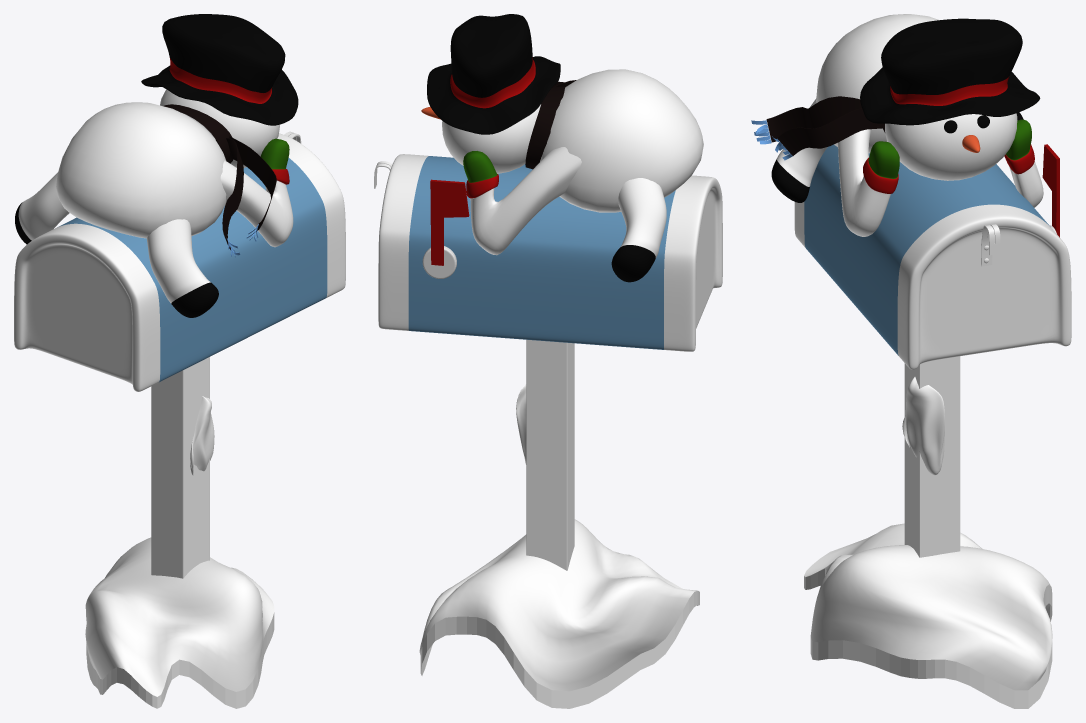
The model's file is snegovik.FBX.
3 views of the same model, side by side, from view 1: azimuth 30°, elevation 25°; view 2: azimuth 150°, elevation 25°; view 3: azimuth 270°, elevation 25° (orthographic). The views are drawn at different scales.
Parts seen in each view (by area): view 1: Cylinder001, Sphere006, Box002, Cylinder003, Box001, Box004, Object001, Sphere001, Box005, Sphere007, Line004, Line003 (+1 smaller); view 2: Cylinder001, Sphere006, Box002, Cylinder003, Box001, Object002, Box005, Sphere001, Line002, Circle001, Cylinder002, Sphere007; view 3: Cylinder001, Sphere006, Cylinder003, Box001, Sphere001, Object001, Box002, Sphere007, Line004, Line003, Object002, Box004 (+2 smaller).
Part boxes in pixels (x1,y1,x2,y2): Cylinder001: [14, 133, 345, 391]; Sphere006: [85, 537, 274, 708]; Box002: [56, 102, 226, 238]; Cylinder003: [141, 14, 298, 125]; Box001: [151, 357, 209, 578]; Box004: [146, 219, 218, 317]; Object001: [220, 138, 293, 247]; Sphere001: [160, 89, 279, 167]; Box005: [15, 172, 69, 244]; Sphere007: [190, 396, 214, 475]; Line004: [229, 136, 276, 231]; Line003: [215, 138, 243, 249]; Cylinder001: [378, 154, 722, 351]; Sphere006: [419, 519, 699, 708]; Box002: [540, 69, 703, 212]; Cylinder003: [427, 14, 560, 134]; Box001: [526, 339, 574, 570]; Object002: [463, 147, 581, 255]; Box005: [611, 178, 666, 282]; Sphere001: [442, 104, 540, 173]; Line002: [430, 179, 469, 265]; Circle001: [525, 86, 564, 169]; Cylinder002: [422, 246, 456, 278]; Sphere007: [516, 384, 526, 464]; Cylinder001: [794, 144, 1071, 369]; Sphere006: [804, 523, 1052, 708]; Cylinder003: [860, 18, 1040, 125]; Box001: [904, 356, 960, 557]; Sphere001: [885, 113, 1017, 180]; Object001: [838, 129, 899, 236]; Box002: [816, 14, 939, 153]; Sphere007: [902, 377, 944, 475]; Line004: [777, 108, 884, 155]; Line003: [766, 96, 879, 142]; Object002: [1004, 119, 1043, 207]; Box004: [771, 98, 827, 202].
Size of the model in its own units: 65.21 by 128 by 55.7.
